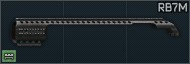M590A1 tactical rail: (0, 0, 190, 64)
